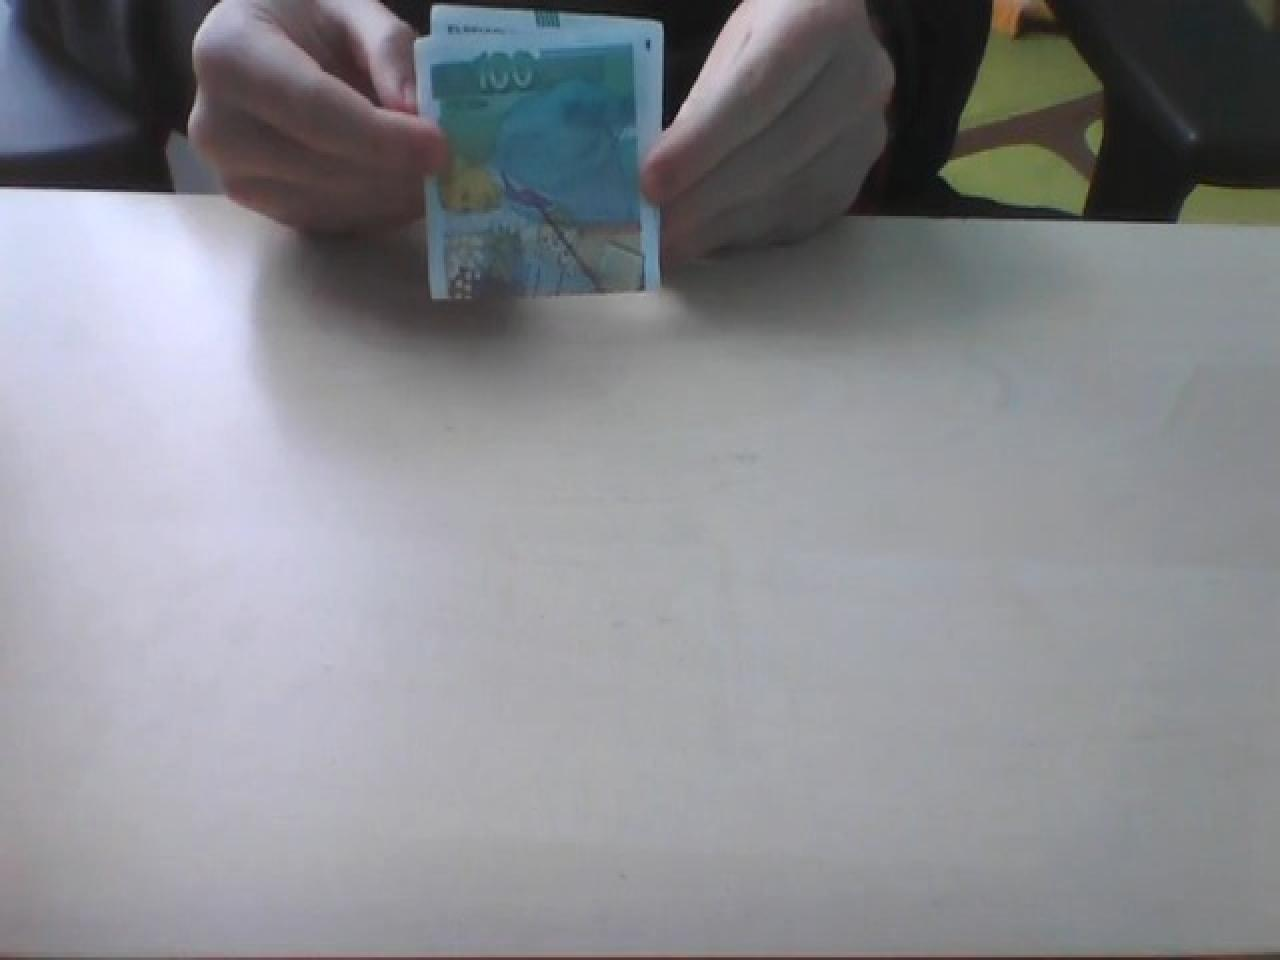100leva: (412, 5, 664, 304)
